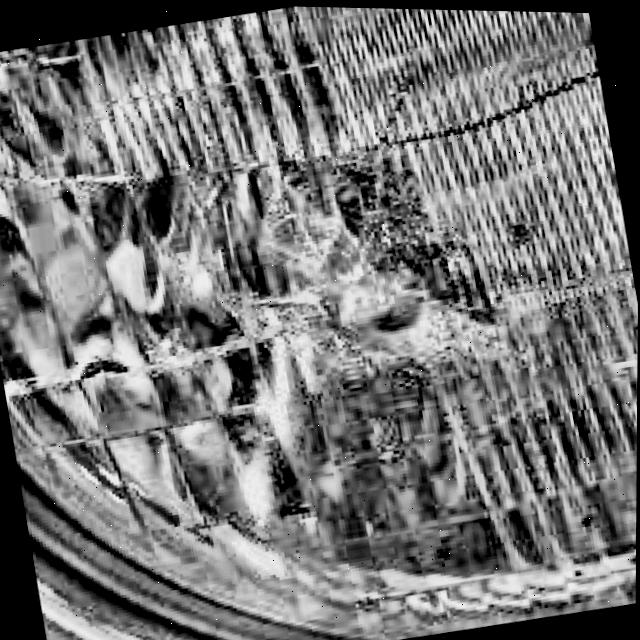head_lamp: (223, 138, 497, 396)
